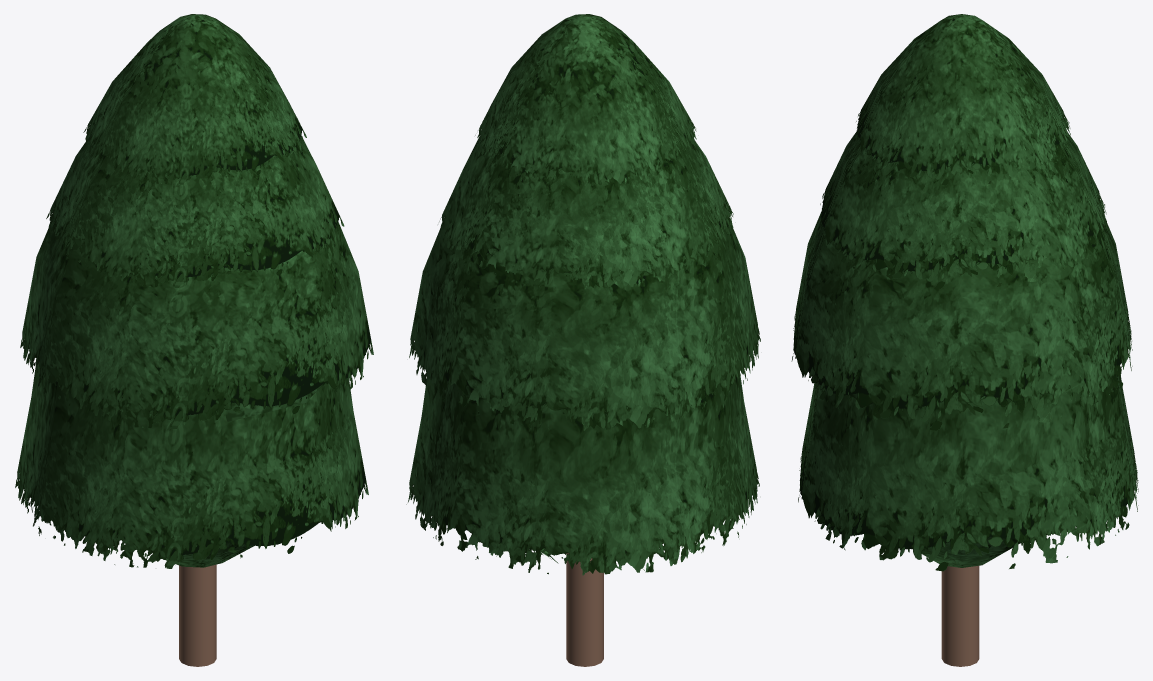
The model's file is Arbol1_Mod.fbx.
3 views of the same model, side by side, from view 1: azimuth 30°, elevation 25°; view 2: azimuth 150°, elevation 25°; view 3: azimuth 270°, elevation 25° (orthographic).
Parts seen in each view (by area): view 1: Arbol1_Mod; view 2: Arbol1_Mod; view 3: Arbol1_Mod.
Part boxes in pixels (left/top/right/bottom): Arbol1_Mod: left=15, top=14, right=373, bottom=666; Arbol1_Mod: left=406, top=14, right=760, bottom=666; Arbol1_Mod: left=791, top=14, right=1138, bottom=666.
Size of the model in its own units: 294 by 577 by 283.
